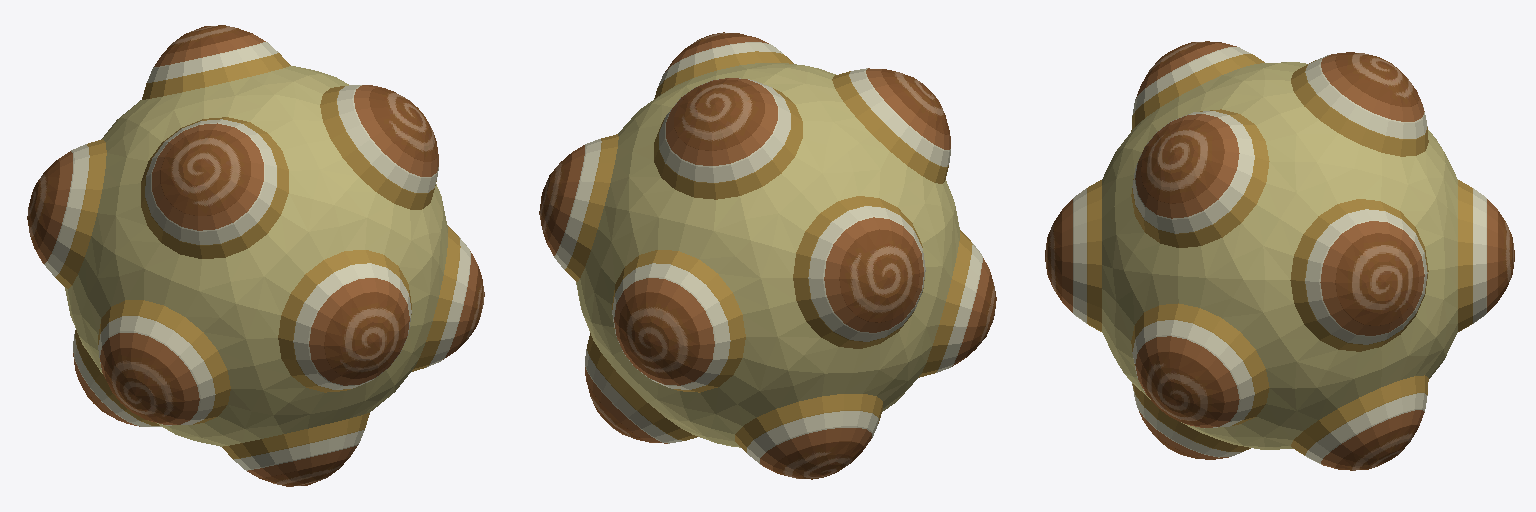
3 renders of one model, left to right at view 1: azimuth 30°, elevation 25°; view 2: azimuth 150°, elevation 25°; view 3: azimuth 270°, elevation 25°, orthographic.
Visible parts, largest first — view 1: core_22_0; view 2: core_22_0; view 3: core_22_0.
Part boxes in pixels (x1,y1,x2,y2): core_22_0: (27,25,484,486); core_22_0: (539,32,996,479); core_22_0: (1045,41,1514,470).
Bounding box in the file's own units: 0.0478 × 0.0494 × 0.0537.
Materials: 1 (1 with a texture image).